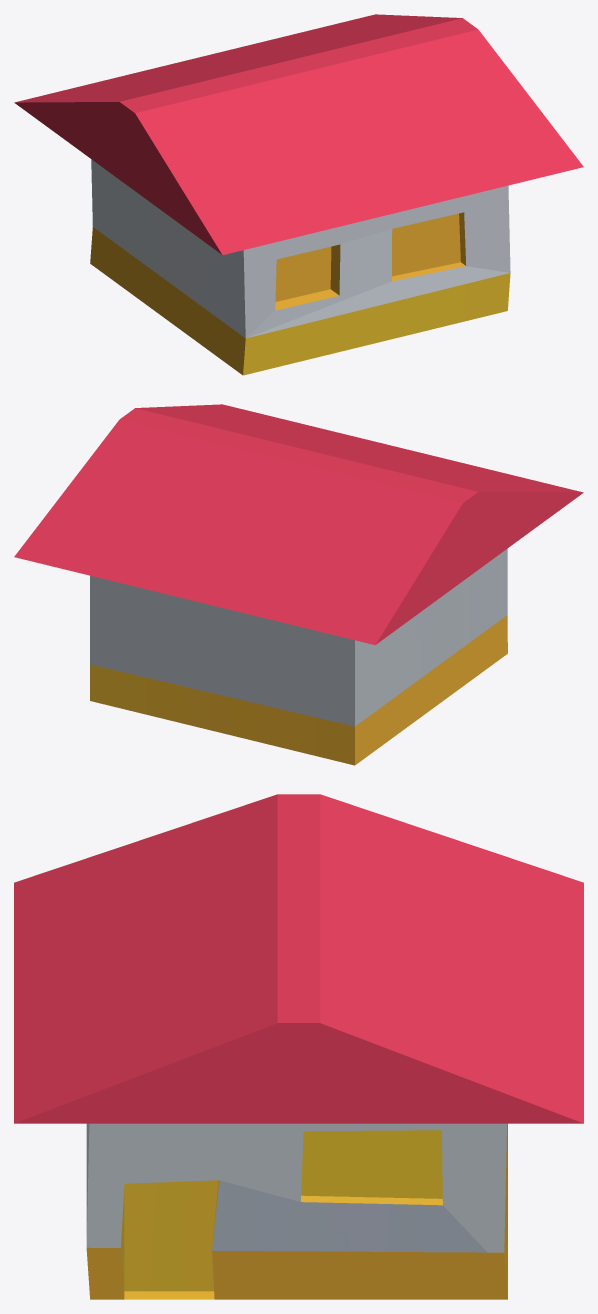
File: casa_7_3.glb
The picture shows the model from 3 angles, top to bottom: view 1: azimuth 30°, elevation 25°; view 2: azimuth 150°, elevation 25°; view 3: azimuth 270°, elevation 25°; orthographic projection. The views are drawn at different scales.
Parts seen in each view (by area): view 1: Cube; view 2: Cube; view 3: Cube.
Boxes of the visible parts, box(x1,y1,x2,y2) form: Cube: box(14, 14, 583, 375); Cube: box(14, 404, 583, 765); Cube: box(14, 794, 583, 1299).
Size of what is drawn, in the model's own units: 25.66 by 15.04 by 25.66.
1 material, 1 textured.
